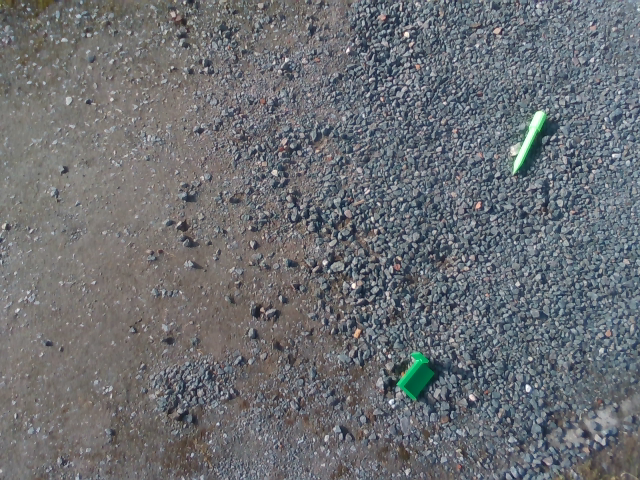Probe: (507, 108, 549, 179)
